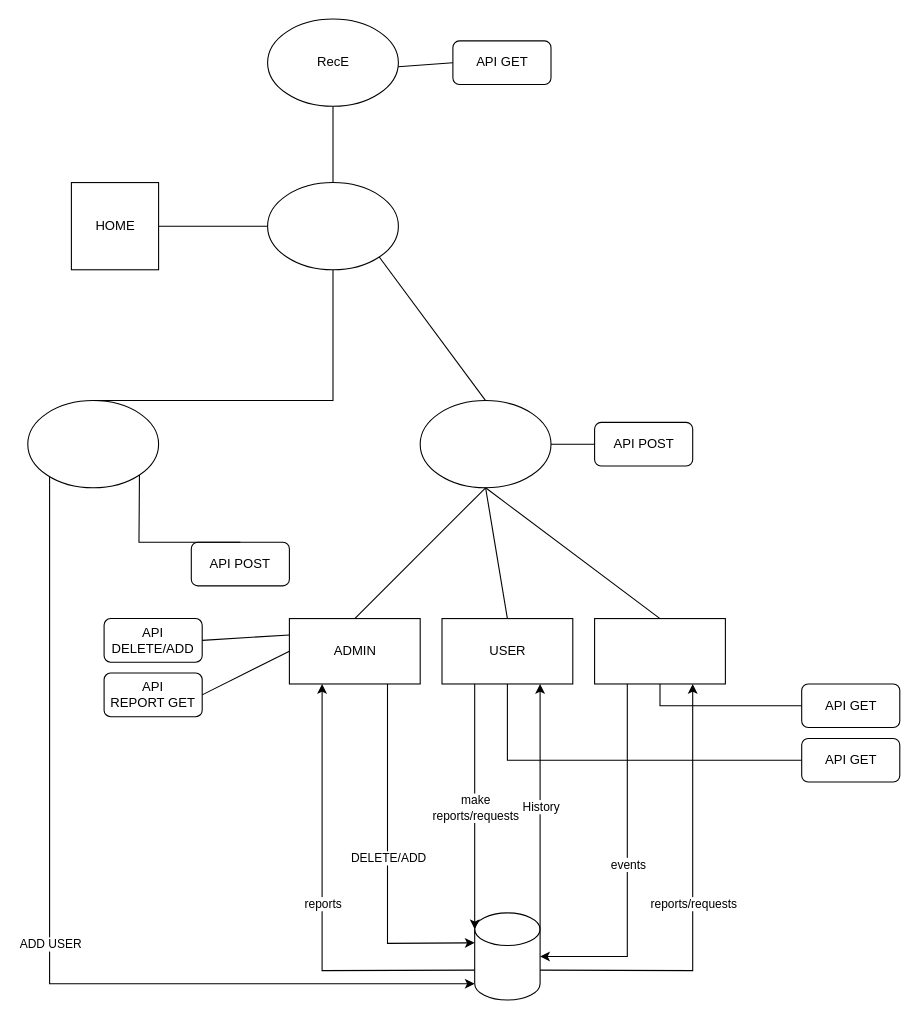
The diagram is 919 pixels wide and 1019 high, and some of its shapes have lost their labels. The centre of each missing label's shape, as x and y in pixels:
DB: [507,956]
LOGIN: [485,443]
NAV BAR: [332,225]
REGISTER: [93,443]
SUPERUSER: [659,650]
